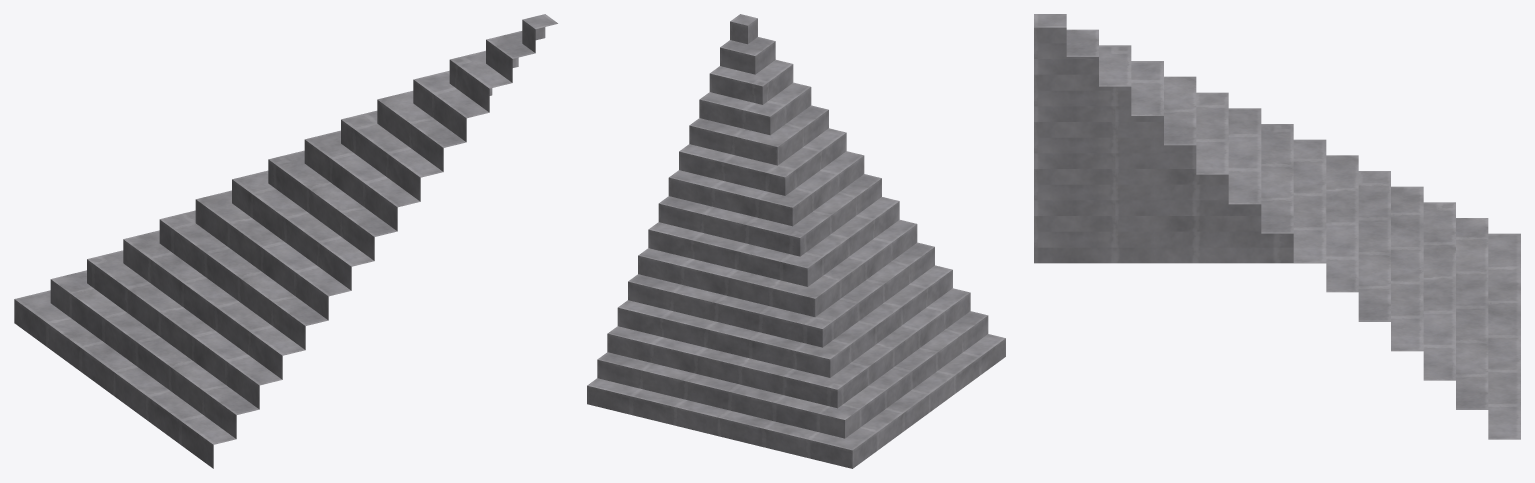
File: Stair_3H_F_Corner.fbx
3 renders of one model, left to right at view 1: azimuth 30°, elevation 25°; view 2: azimuth 150°, elevation 25°; view 3: azimuth 270°, elevation 25°, orthographic. The views are drawn at different scales.
Visible parts, largest first — view 1: Stair_3H_F_Corner; view 2: Stair_3H_F_Corner; view 3: Stair_3H_F_Corner.
Boxes of the visible parts, x1,y1,x2,y2 form: Stair_3H_F_Corner: (14, 14, 557, 468); Stair_3H_F_Corner: (587, 14, 1005, 468); Stair_3H_F_Corner: (1034, 14, 1520, 439).
Bounding box in the file's own units: 3 × 3 × 3.
